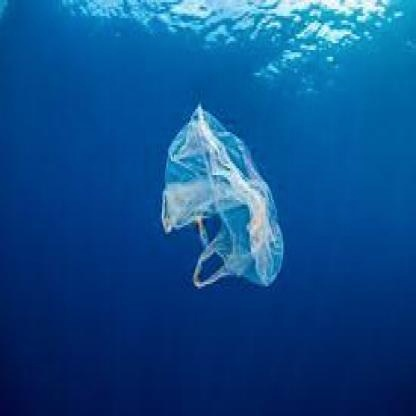pbag: (159, 102, 284, 291)
